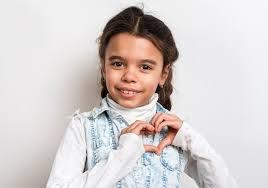Human: (52, 8, 238, 186)
